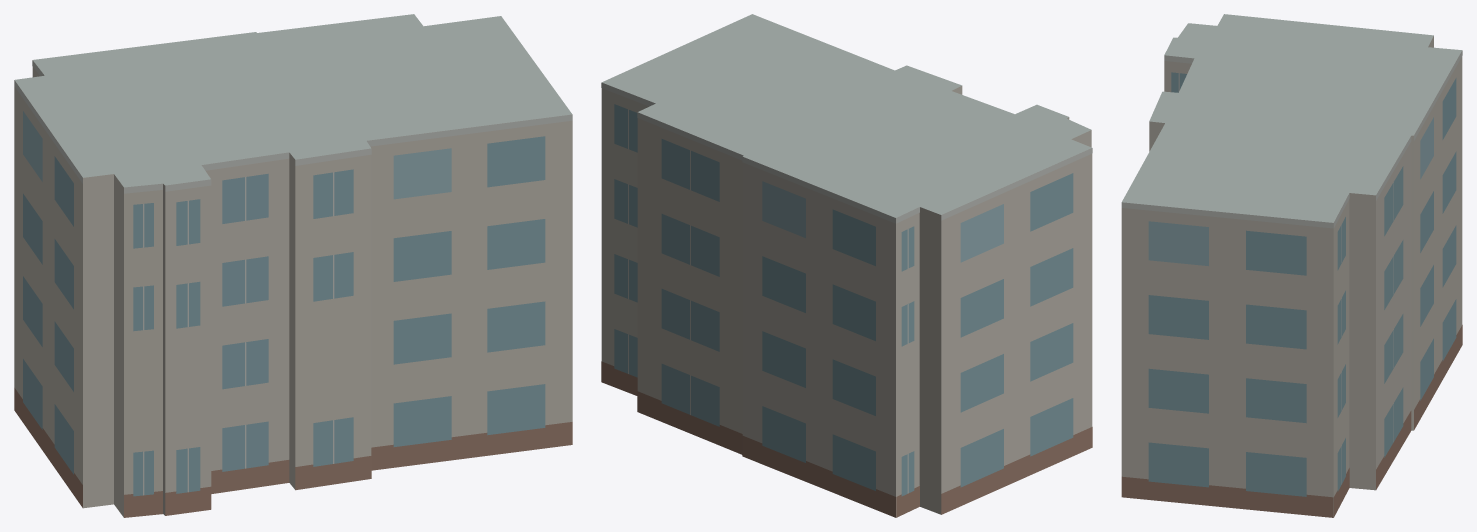
Rendered from survey-upis-32955874.glb.
The picture shows the model from 3 angles, left to right: view 1: azimuth 30°, elevation 25°; view 2: azimuth 150°, elevation 25°; view 3: azimuth 270°, elevation 25°; orthographic projection. The views are drawn at different scales.
Visible parts, largest first — view 1: survey-upis-32955874.tmp; view 2: survey-upis-32955874.tmp; view 3: survey-upis-32955874.tmp.
Part boxes in pixels (x1,y1,x2,y2): survey-upis-32955874.tmp: (14, 14, 572, 517); survey-upis-32955874.tmp: (601, 14, 1092, 517); survey-upis-32955874.tmp: (1121, 14, 1462, 517).
Bounding box in the file's own units: 19.61 × 12.9 × 13.52.
